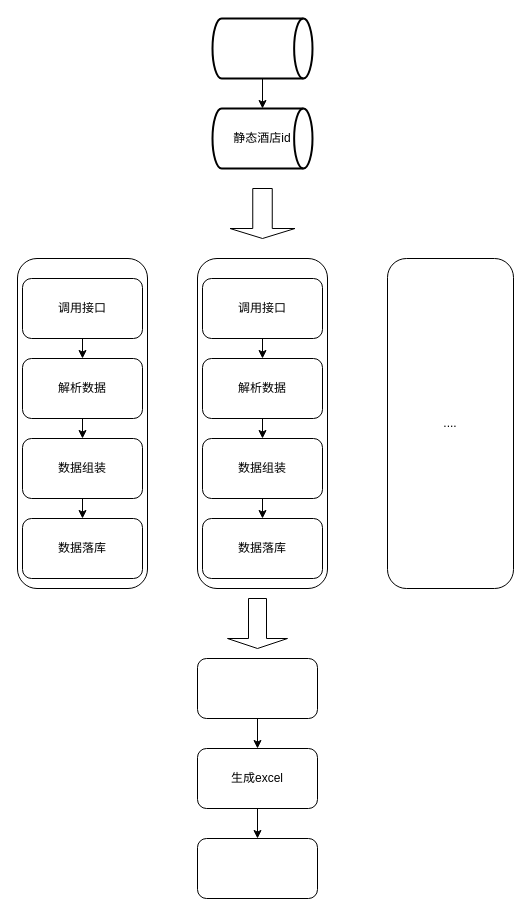
This 531x916 diagram has some shape labels left out. Here are the shapes that lost their labels. From the top down, the box of each, then its label:
(211, 17, 313, 79): 城市集合
(196, 658, 318, 718): 查数据库
(196, 838, 318, 898): 发送邮件
